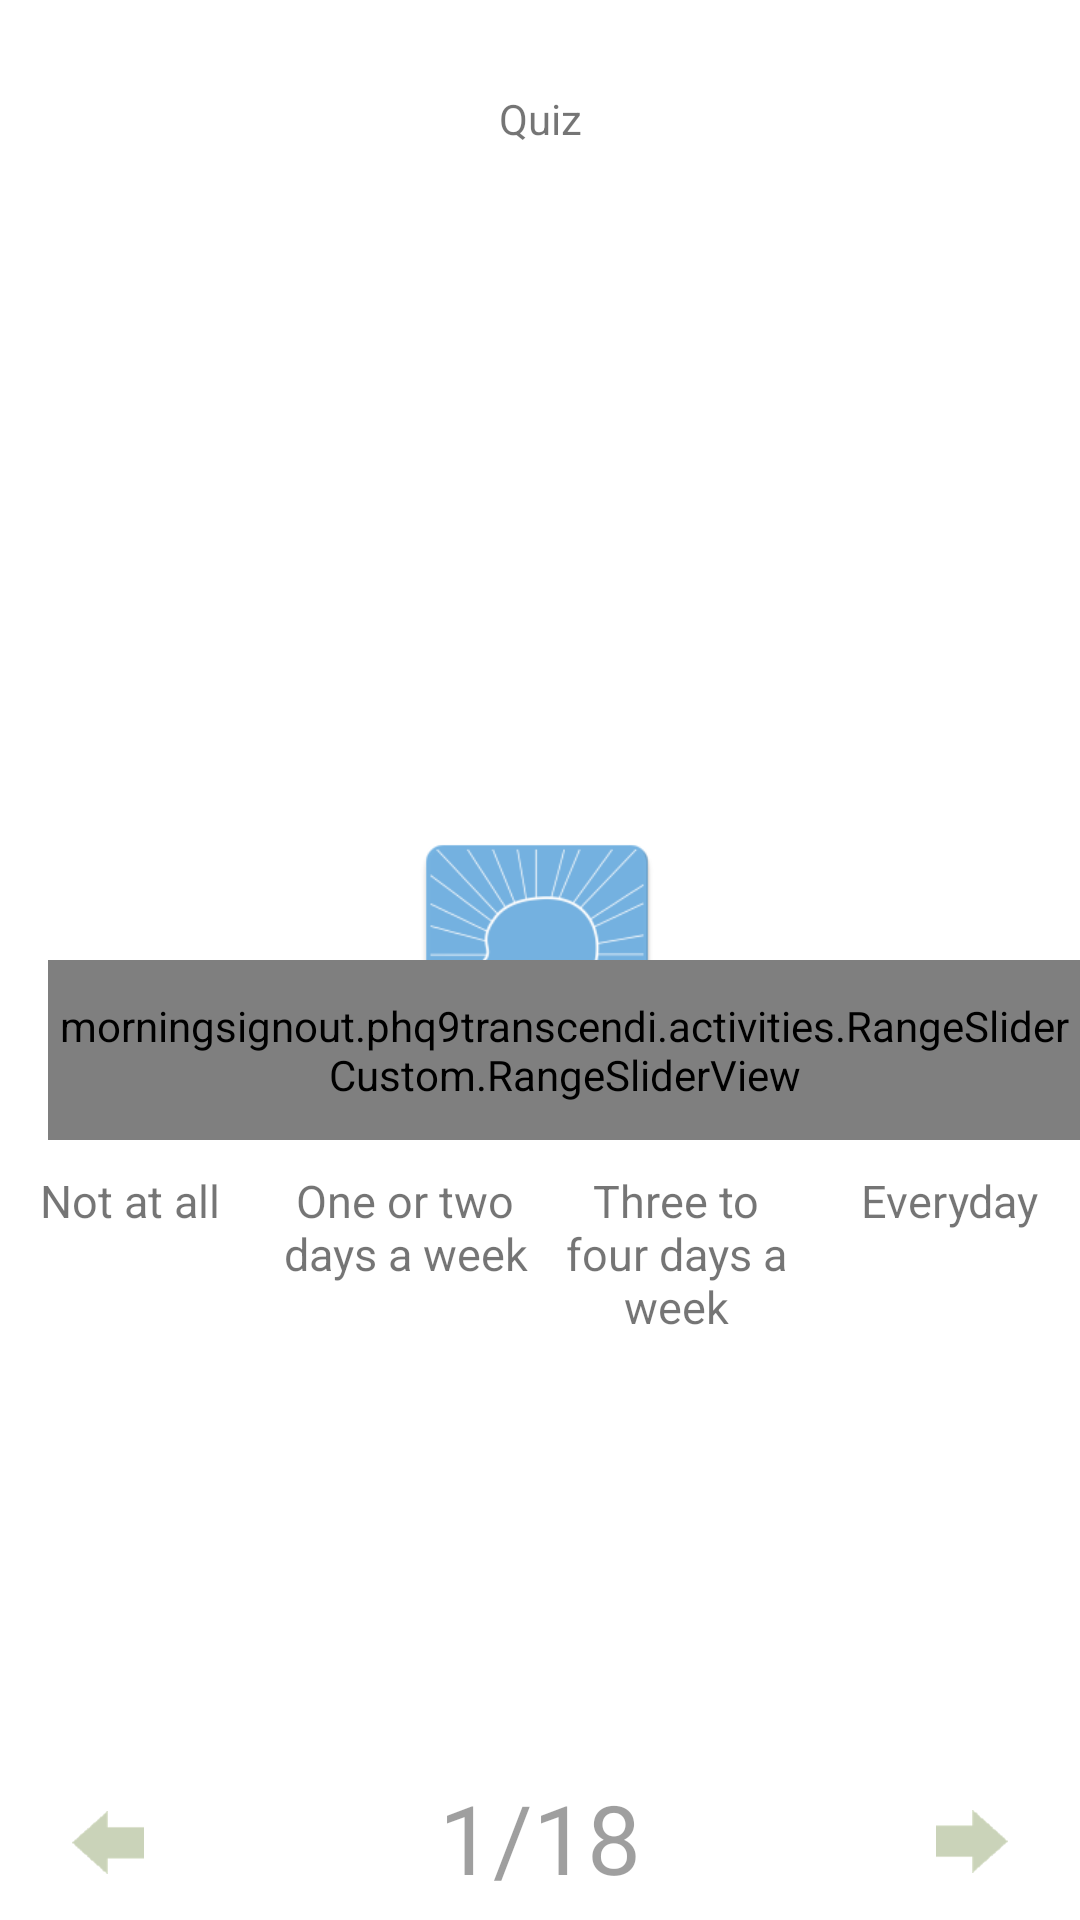

Where icons sit on this 1080x1920 app screen, as (x1=x1, y1=y1, x2=x2, y2=y2):
Next question: (x1=936, y1=1810, x2=1008, y2=1873)
